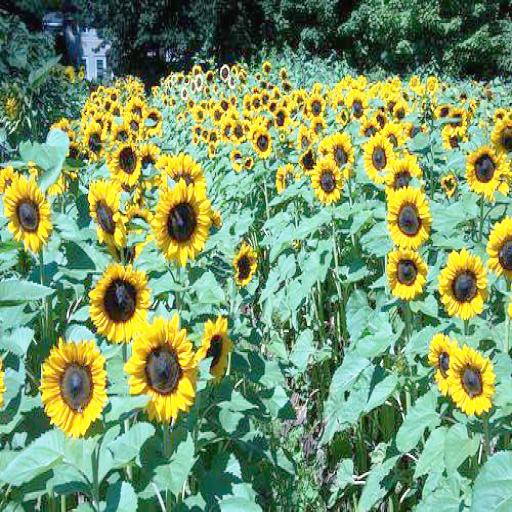sunflower: (127, 311, 197, 421), (37, 336, 107, 440), (155, 182, 213, 262), (89, 264, 150, 340), (438, 248, 488, 324), (6, 178, 52, 251), (86, 178, 128, 256), (450, 346, 494, 420), (384, 185, 432, 249), (386, 244, 425, 302), (465, 144, 503, 198), (485, 215, 512, 291), (427, 334, 461, 392), (196, 315, 234, 360), (364, 131, 396, 180), (311, 158, 344, 204), (110, 143, 144, 183), (233, 242, 256, 288), (329, 132, 355, 171), (347, 86, 368, 125), (84, 122, 104, 156), (144, 109, 164, 135), (252, 128, 269, 156), (306, 95, 325, 120)
